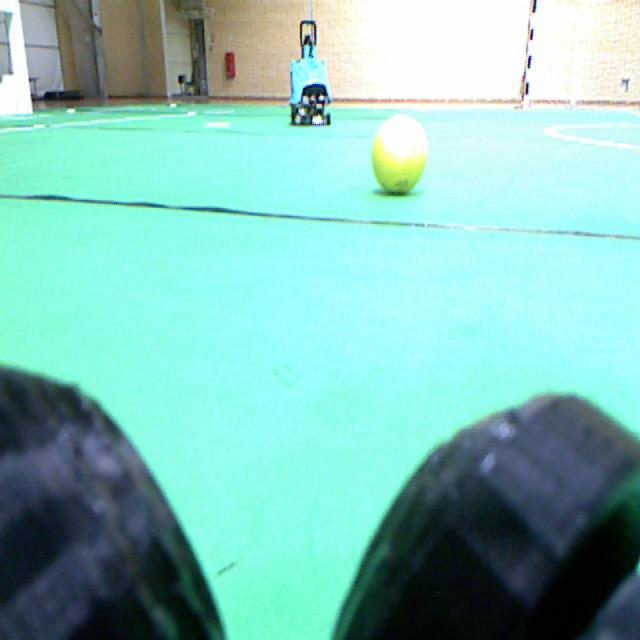ball: (371, 115, 427, 193)
goal: (8, 0, 32, 113)
